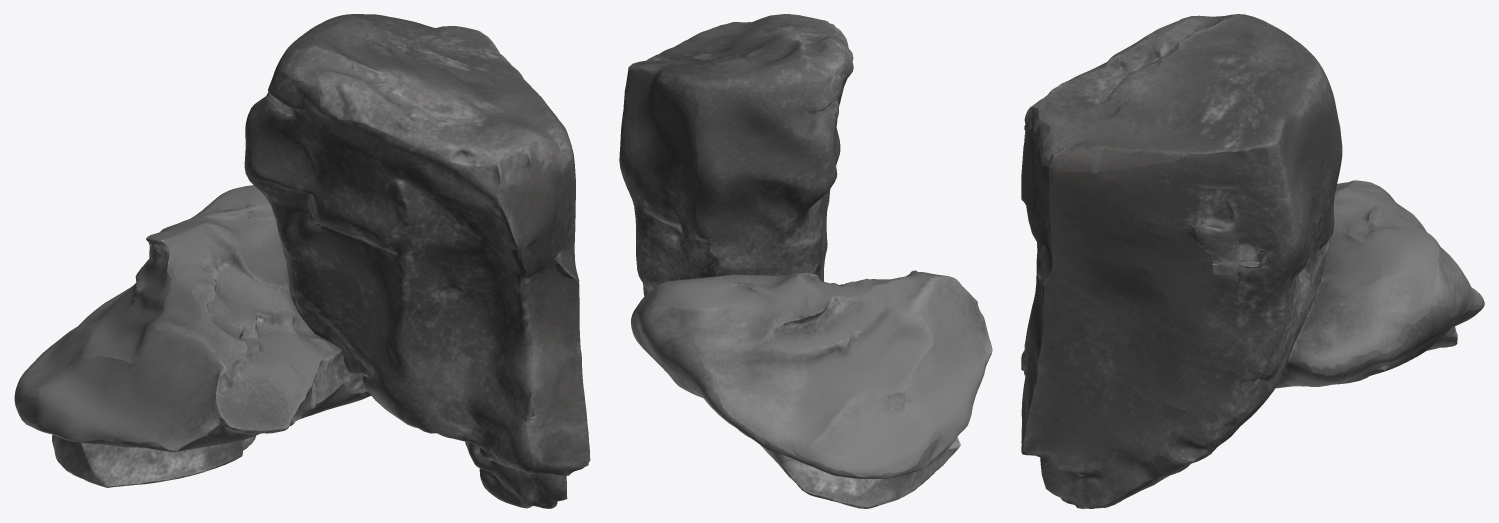
3 views of the same model, side by side, from view 1: azimuth 30°, elevation 25°; view 2: azimuth 150°, elevation 25°; view 3: azimuth 270°, elevation 25° (orthographic). The views are drawn at different scales.
Parts seen in each view (by area): view 1: world; view 2: world; view 3: world.
Part boxes in pixels (<box>): world: <box>14,14,590,508</box>; world: <box>619,14,992,508</box>; world: <box>1021,14,1484,508</box>.
Bounding box in the file's own units: 1.49 × 1.5 × 1.5.
Materials: 1 (1 with a texture image).
